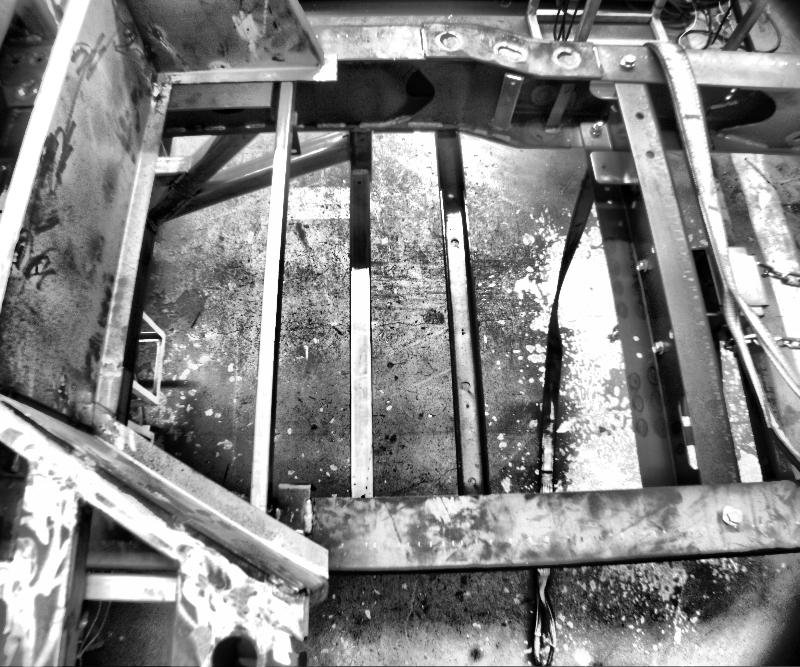bolt: (720, 506, 744, 527), (617, 54, 637, 74), (589, 122, 603, 139), (652, 341, 666, 356), (636, 260, 648, 274)
bracket: (273, 474, 323, 526), (489, 74, 522, 137), (537, 82, 573, 139), (588, 152, 638, 188), (286, 113, 308, 160)
hole: (208, 631, 262, 666), (458, 380, 472, 392), (466, 475, 476, 487), (634, 110, 644, 119), (645, 150, 655, 159), (631, 334, 642, 341), (446, 189, 454, 198), (634, 350, 642, 359), (450, 238, 458, 246), (600, 164, 606, 172), (356, 178, 362, 185), (292, 151, 299, 156), (340, 133, 346, 138)
